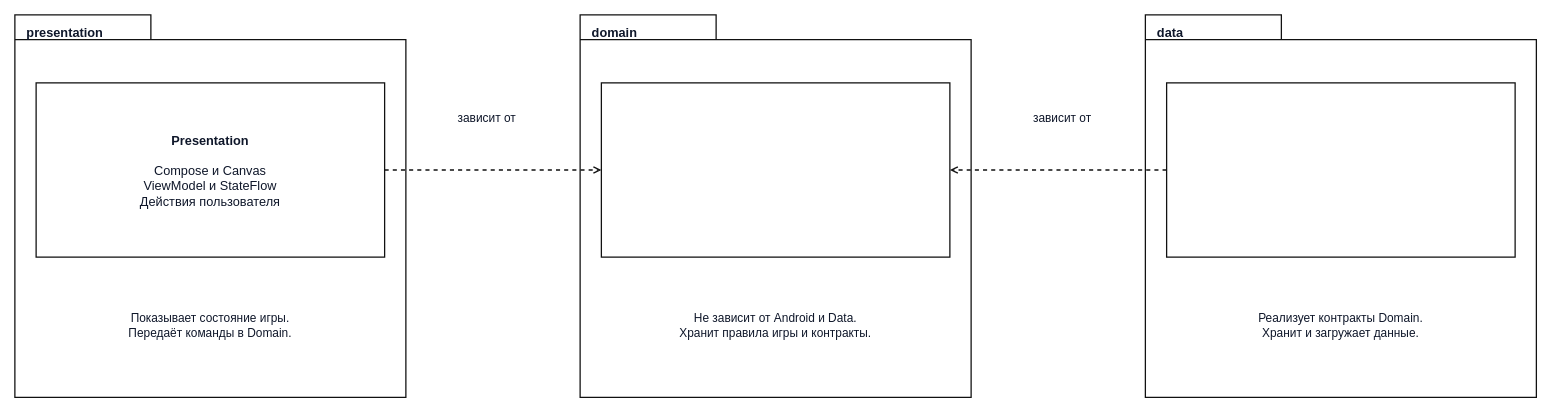
This 1552x413 diagram has some shape labels left out. The shapes that lost their labels are listed below. From the top down, each one's centre as x and y in pixels, then its label:
the point at 775,169: Domain GameEngine и сущности Экономика и игровое время Use Cases и интерфейсы
the point at 1340,169: Data Реализации репозиториев Room и DataStore Retrofit и OkHttp
